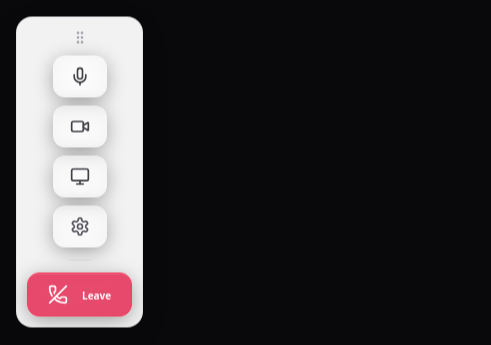
Test: ControlBar Component (Tactile Dark-Glass Controls) › Device Settings Popover & Selection › toggles settings popover on button click and closes on Escape
Step 1. Click the button with test id "device-settings-btn" → (80, 226), box 53,206 -> 107,248
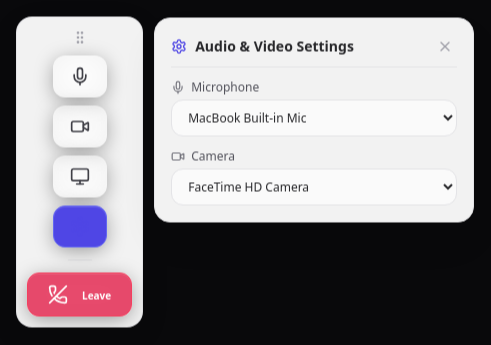
Now the element with test id "device-settings-popover" is shown, box 154,18 -> 474,222
Now the heading "Audio & Video Settings" is shown, box 171,36 -> 354,56
// Close on Escape
Step 2. Press Escape
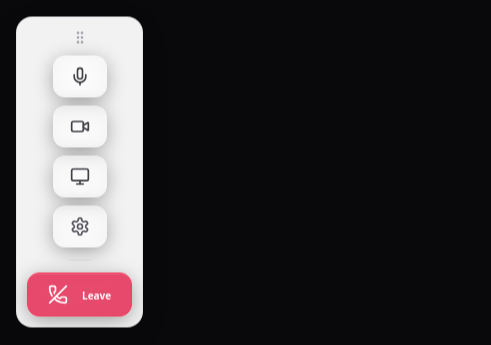
Now the element with test id "device-settings-popover" is gone
